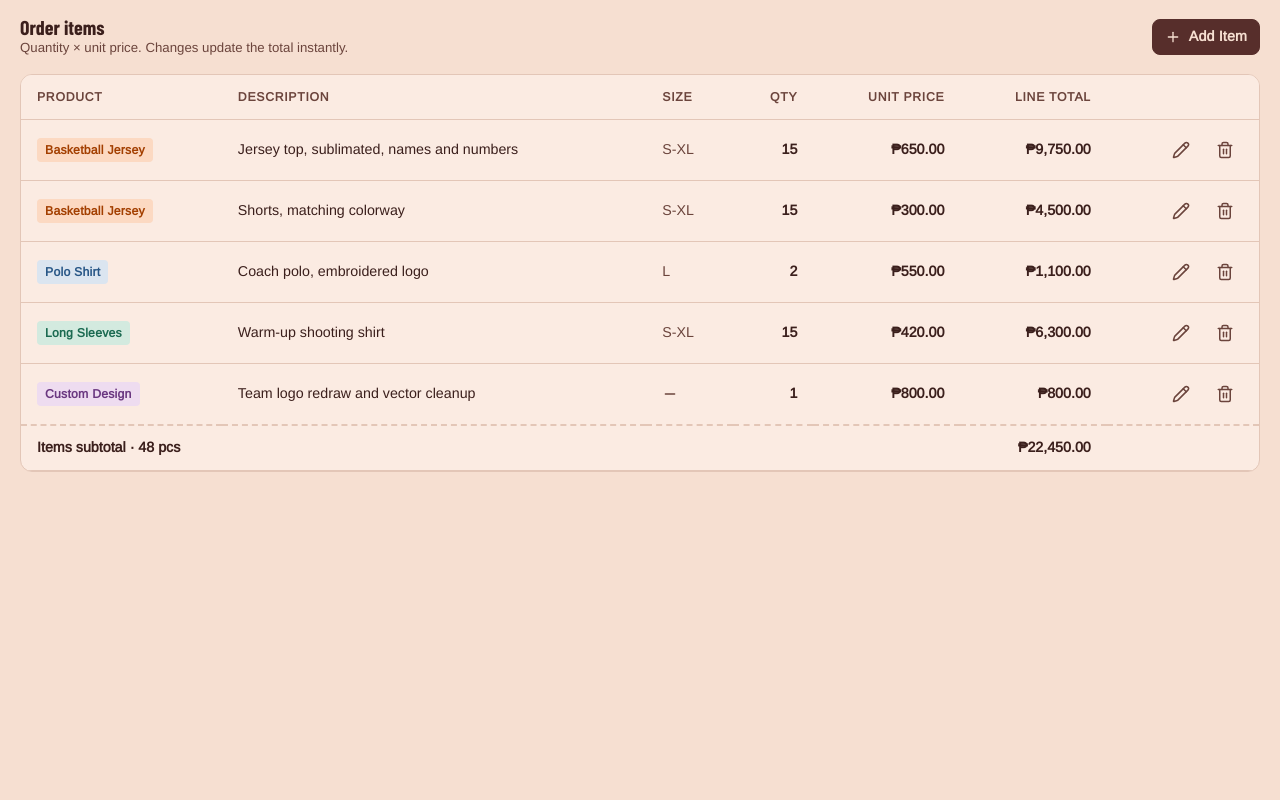
Test: Add Item › opens the Add Item window from the button
Click the button "Add Item" at (1206, 37), box [1152,19,1260,55]
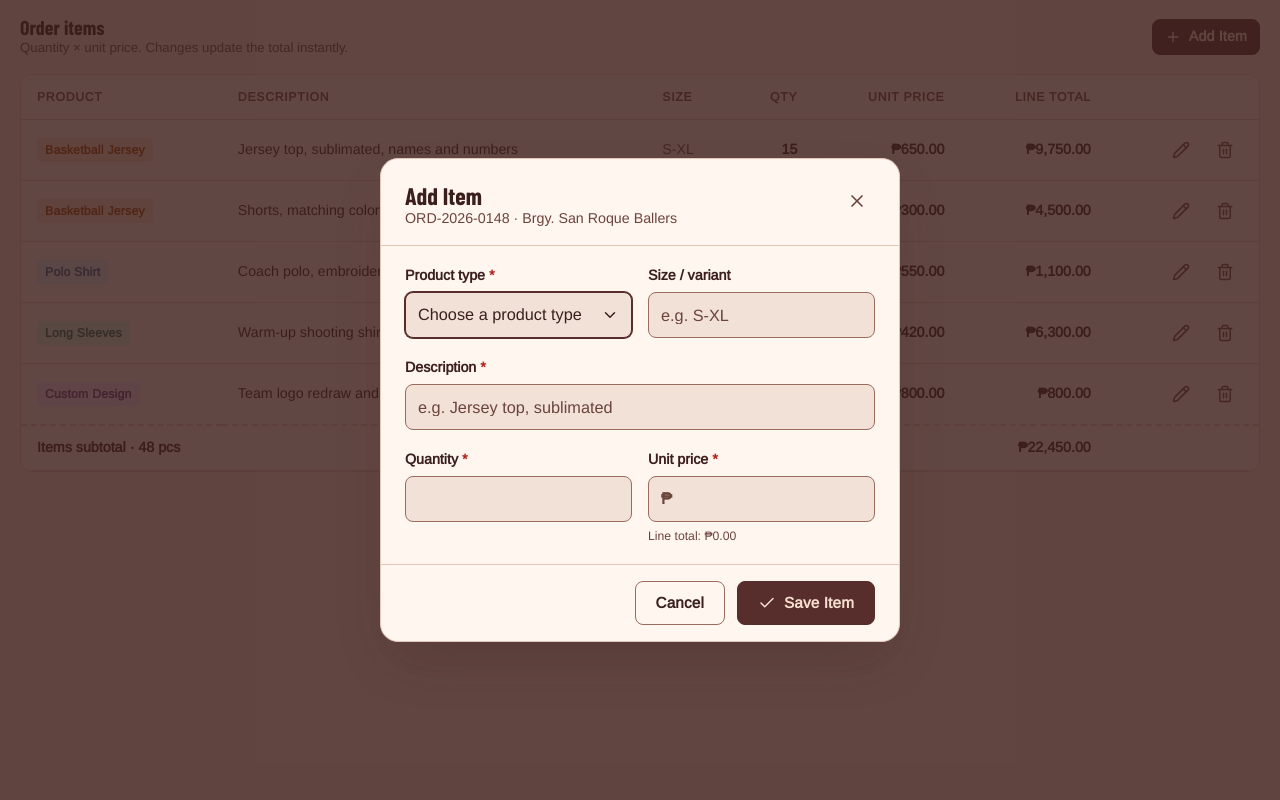
Expected: the dialog "Add Item" is shown, [380,158,900,642]
